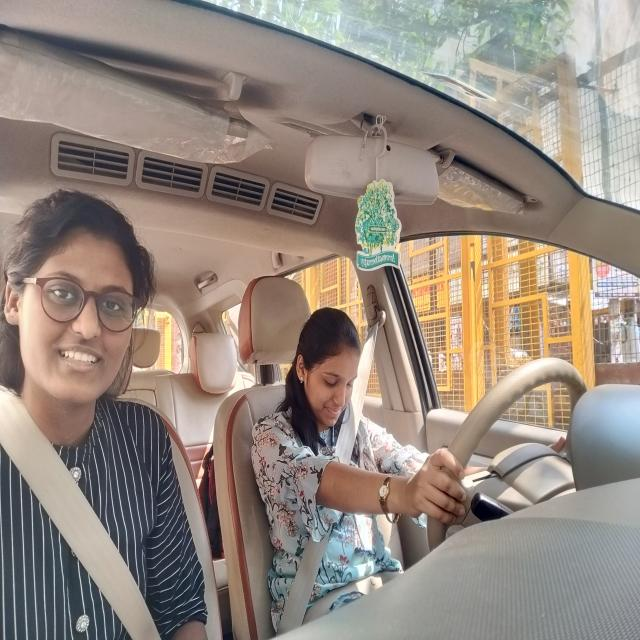drowsy: (292, 309, 365, 435)
person: (2, 189, 151, 406)
